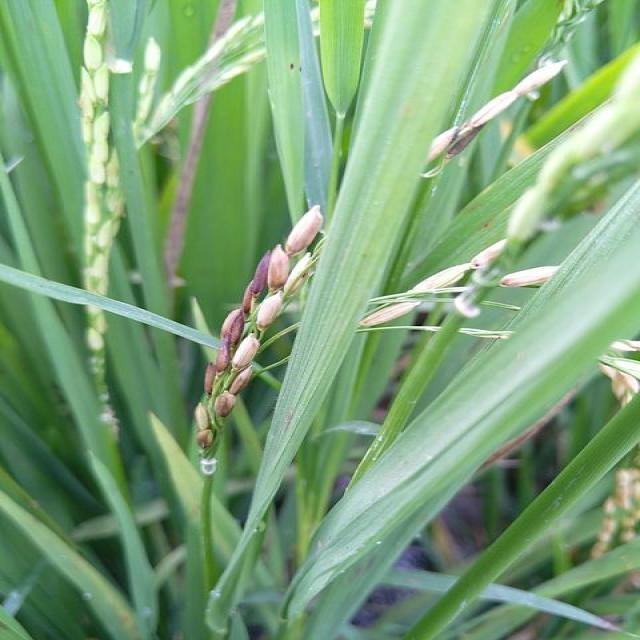Panicle Blight: (431, 62, 563, 157), (204, 249, 269, 397), (267, 207, 321, 292), (215, 365, 251, 420), (193, 402, 216, 455)
